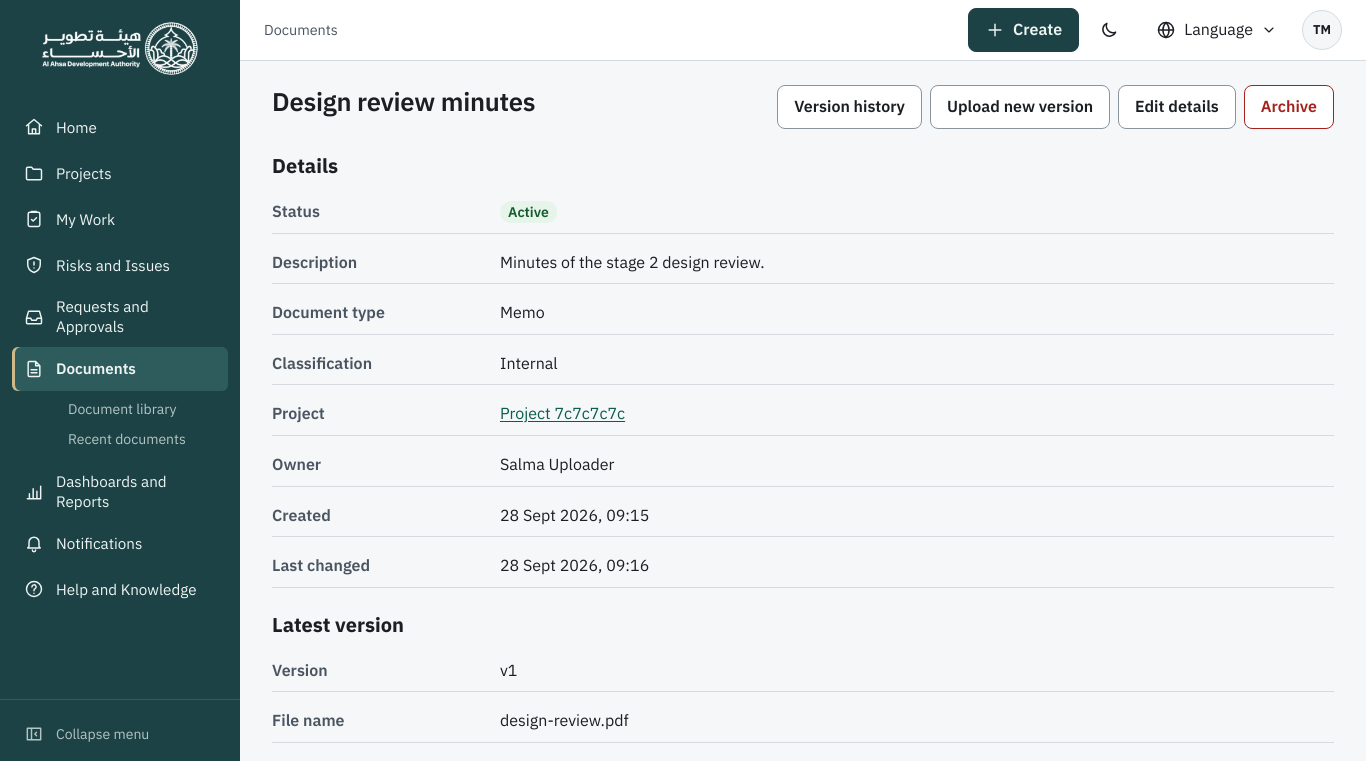
Test: MOD-051 Edit Metadata › sends the whole editable set with the ETag it was read with
Click the button "Edit details".
click(1177, 107)  # box [1118,85,1236,129]
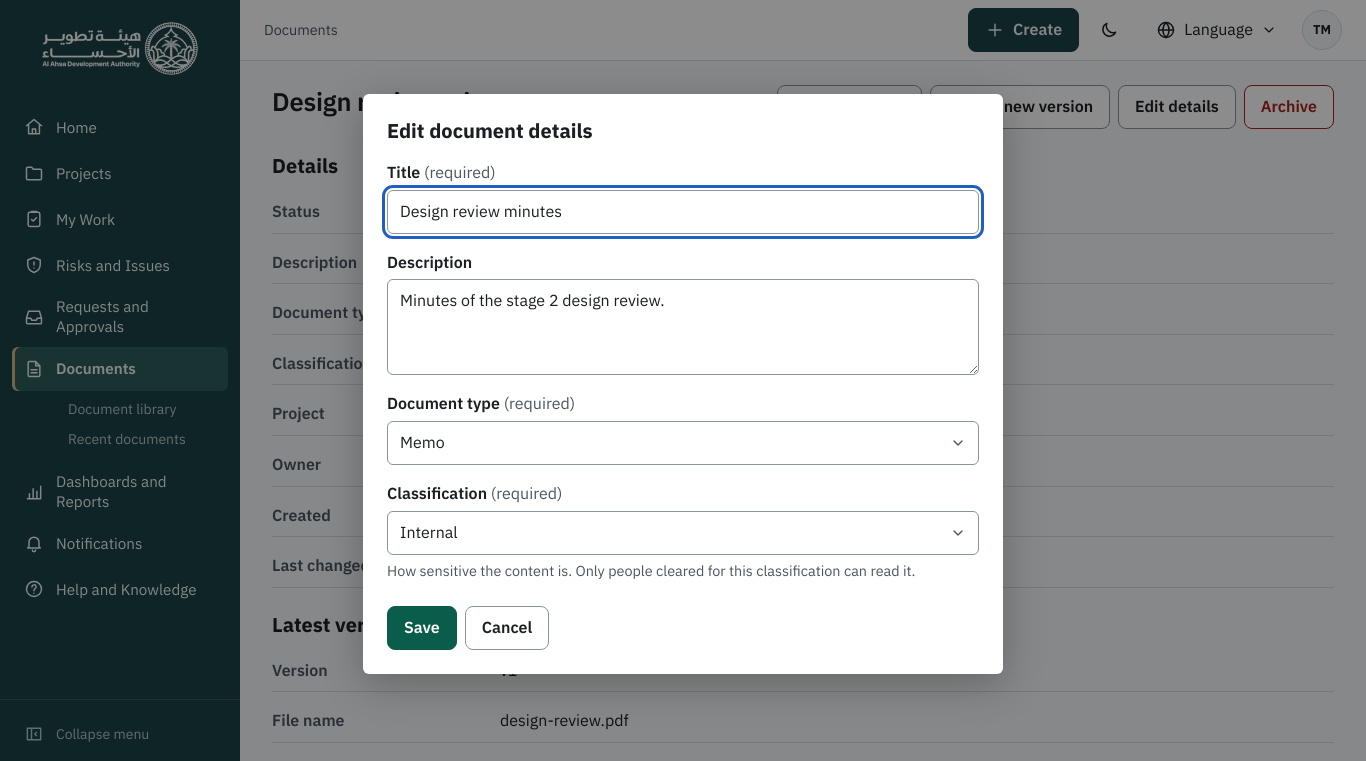
Replace the text in the text box labelled "Description" with "Revised" at coordinates (683, 328), box [387,280,979,376]
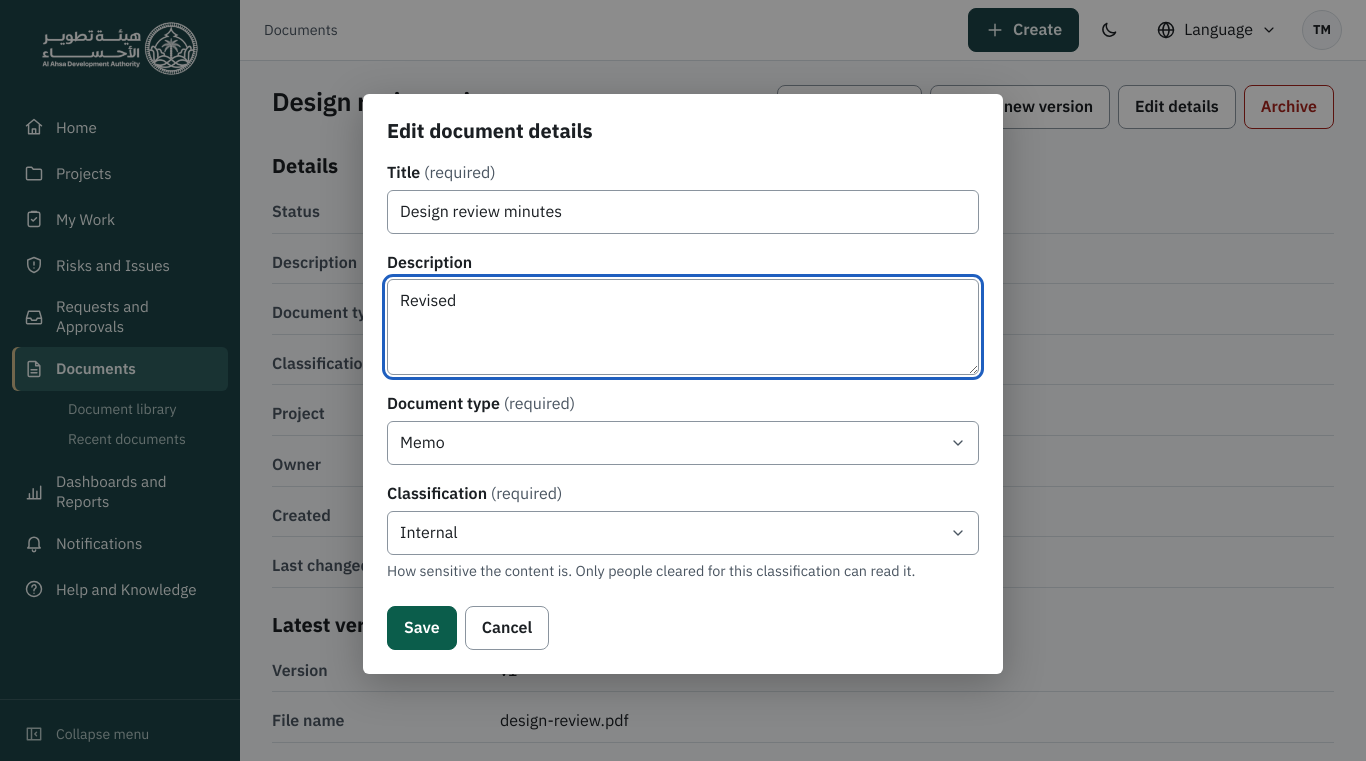
Click the button "Save".
click(422, 628)  # box [387,606,457,650]
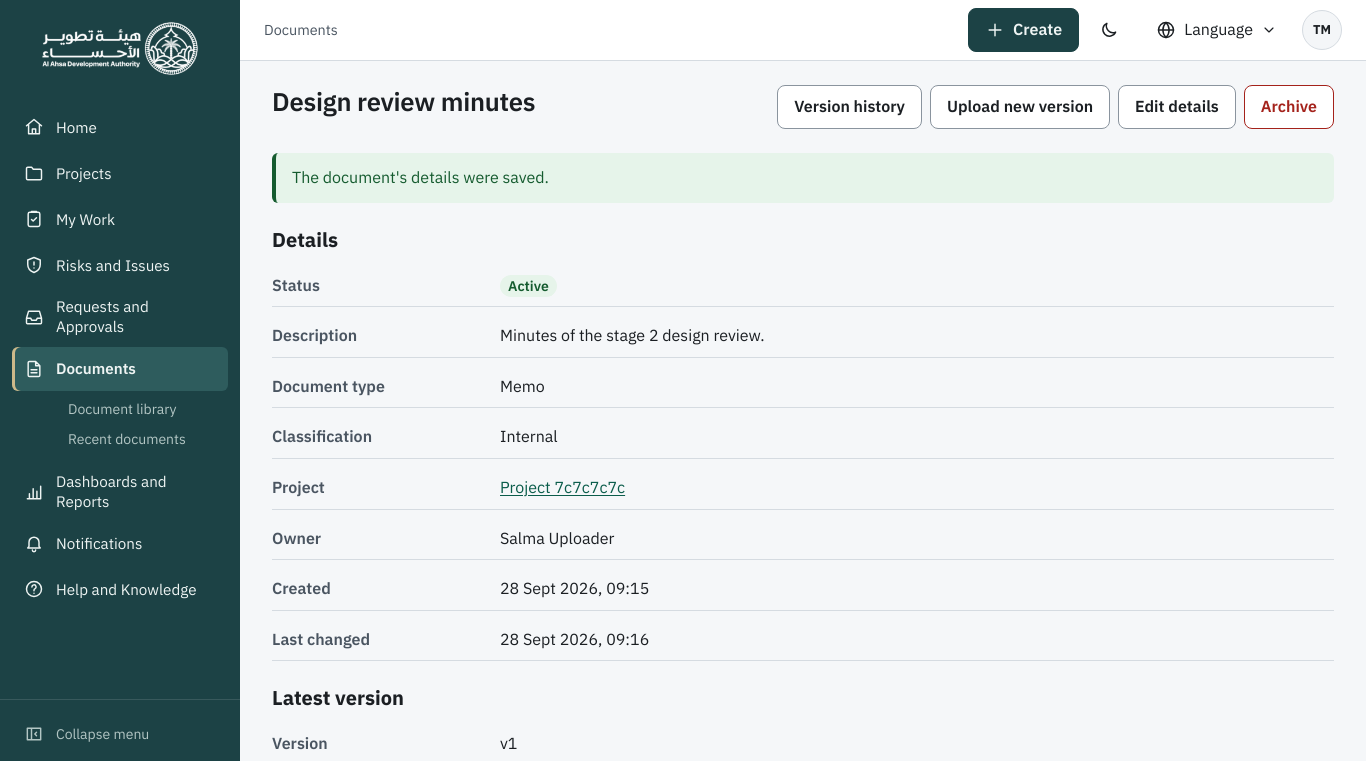
expect the text "The document's details were saved." is shown: met, box [272,153,1334,203]
